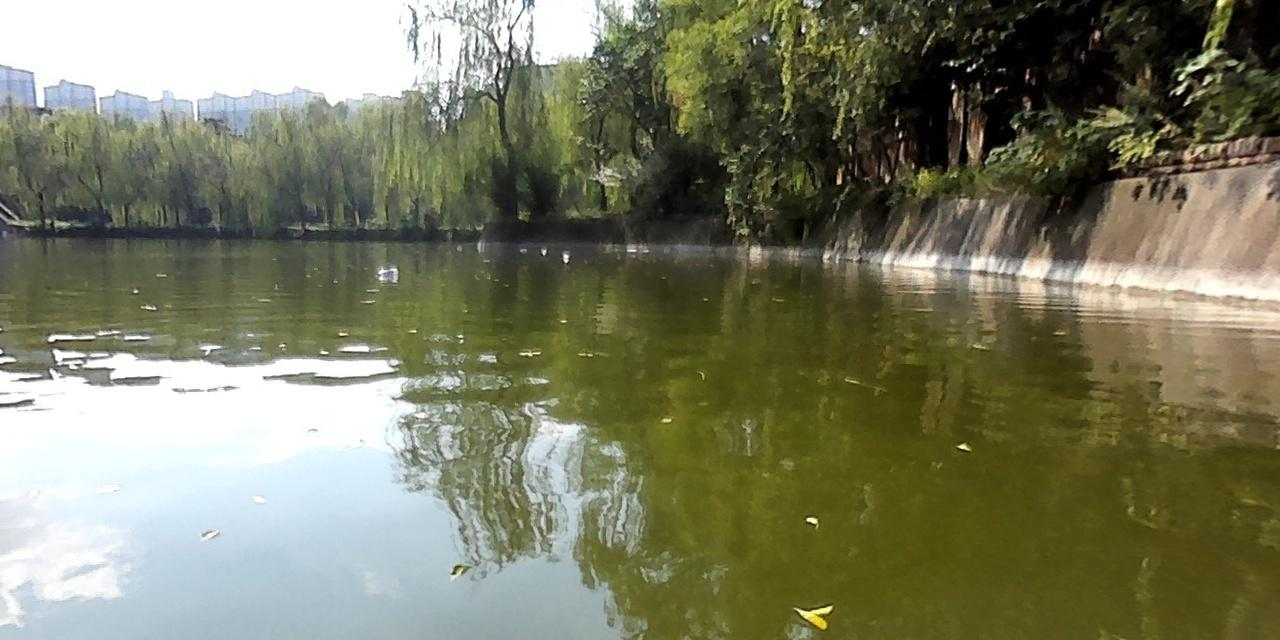bottle: (373, 265, 398, 283)
